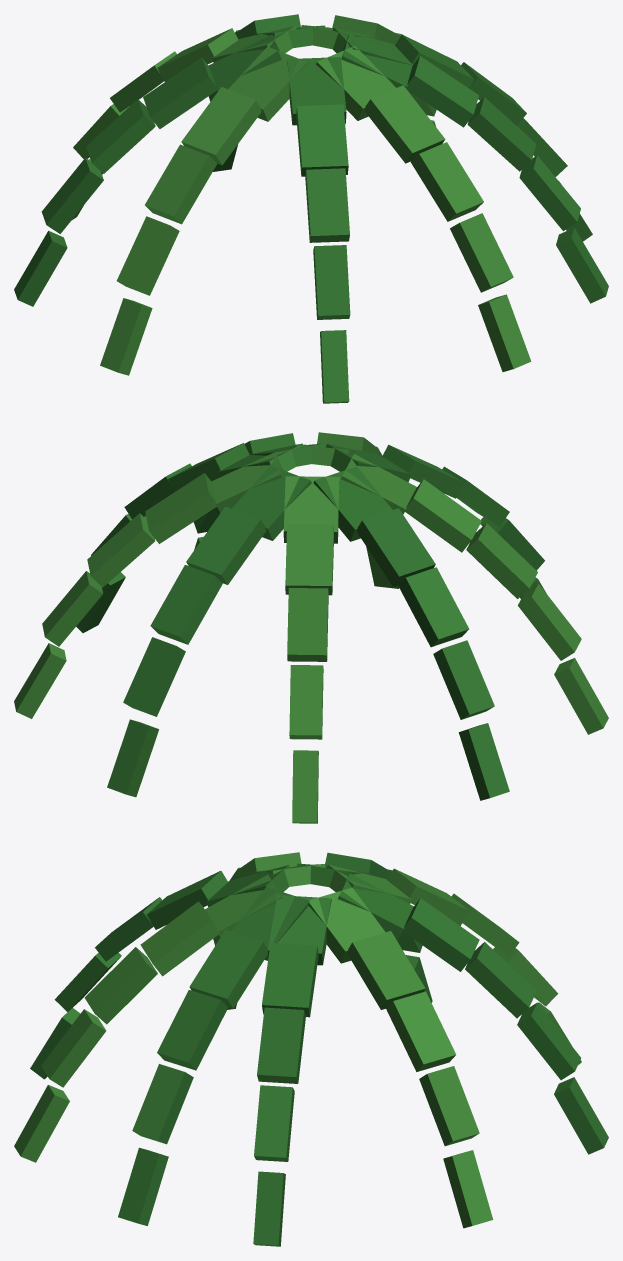
The model's file is p_fern.glb.
3 views of the same model, one above another, from view 1: azimuth 30°, elevation 25°; view 2: azimuth 150°, elevation 25°; view 3: azimuth 270°, elevation 25° (orthographic).
Visible parts, largest first — view 1: p_fern; view 2: p_fern; view 3: p_fern.
Boxes of the visible parts, x1,y1,x2,y2 form: p_fern: (14, 14, 608, 403); p_fern: (14, 432, 608, 823); p_fern: (14, 852, 608, 1246).
Size of the model in its own units: 0.6533 by 0.2965 by 0.6544.
